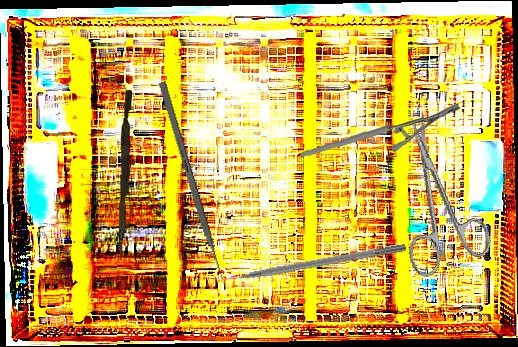Iris Scissors: (378, 106, 497, 280)
Needle Holder: (300, 97, 461, 163)
Pusher: (157, 81, 230, 291), (210, 240, 407, 287), (117, 89, 133, 262)
